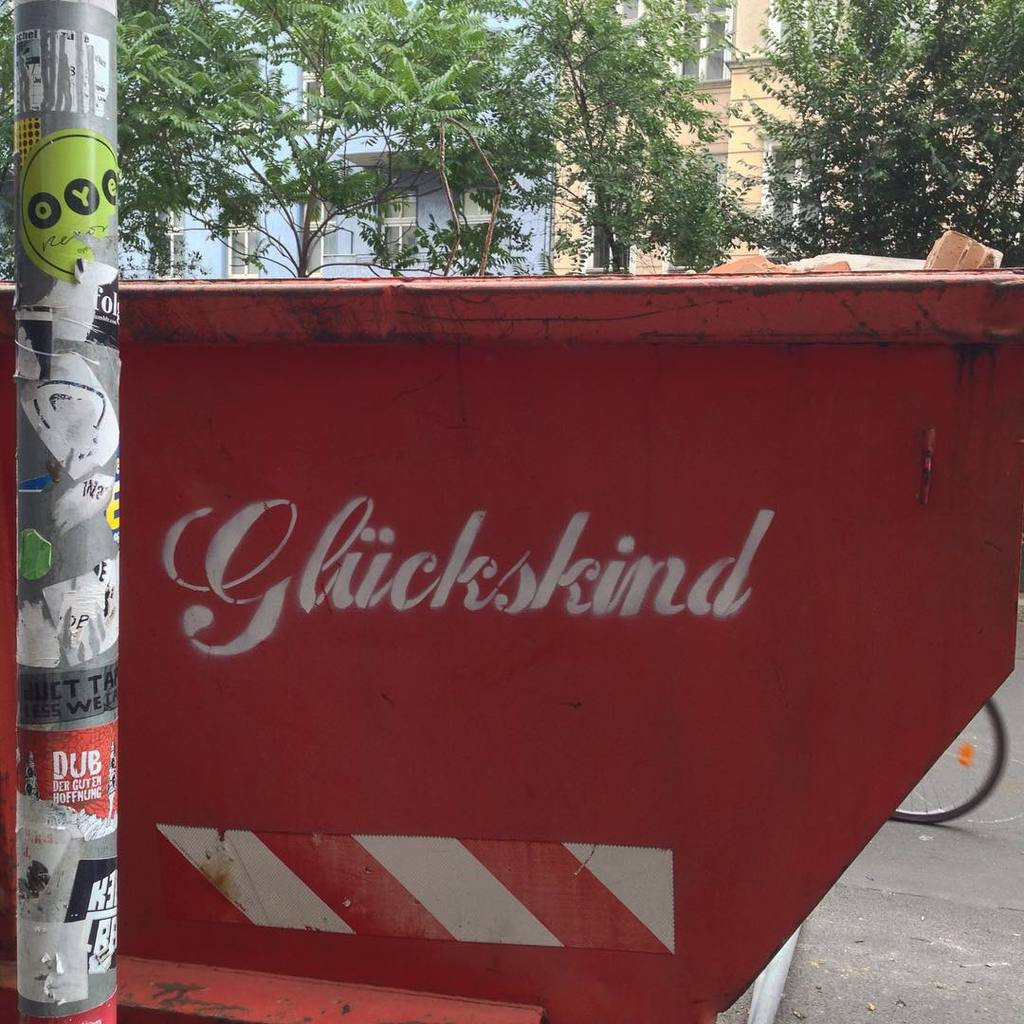Tree: (51, 44, 836, 293), (731, 0, 1023, 261)
